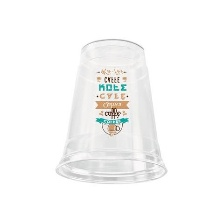glass: (48, 31, 173, 188)
